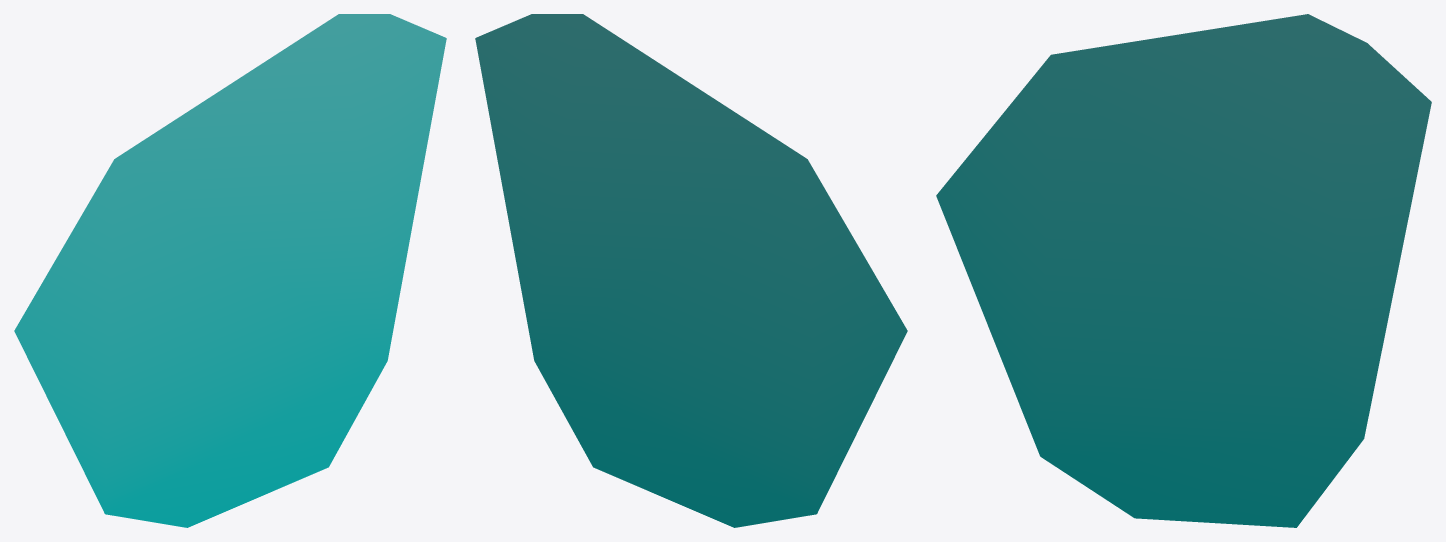
The model's file is Sage_ve3gbfoja_Mid_ve3gbfoja_VarE_LOD3.fbx.
3 renders of one model, left to right at view 1: azimuth 30°, elevation 25°; view 2: azimuth 150°, elevation 25°; view 3: azimuth 330°, elevation 25°, orthographic. The views are drawn at different scales.
Parts seen in each view (by area): view 1: _pn49_VarE_LOD5; view 2: _pn49_VarE_LOD5; view 3: _pn49_VarE_LOD5.
Boxes of the visible parts, bbox=[...] form: _pn49_VarE_LOD5: bbox=[14, 14, 446, 527]; _pn49_VarE_LOD5: bbox=[475, 14, 907, 527]; _pn49_VarE_LOD5: bbox=[936, 14, 1431, 527].
Size of the model in its own units: 54.37 by 57.29 by 0.
